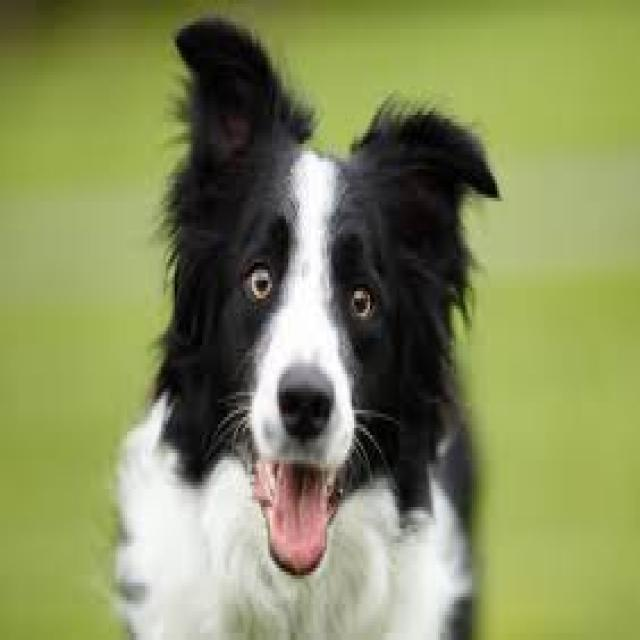BORDER_COLLIE: (103, 18, 512, 640)
